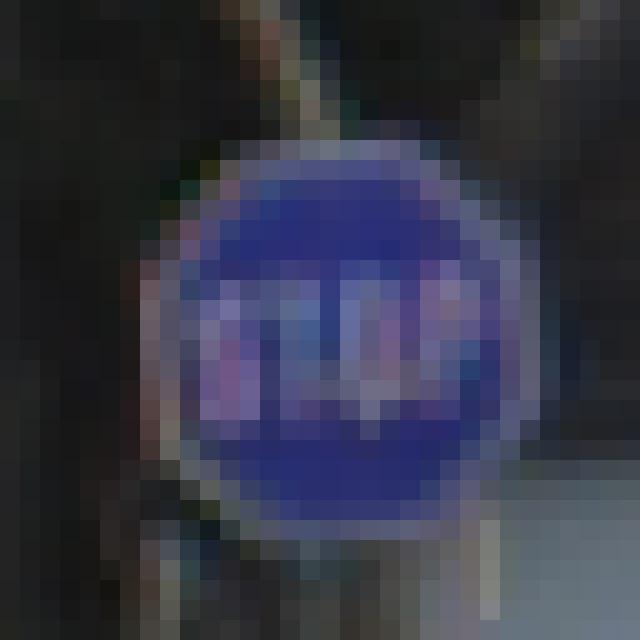STOP: (148, 154, 533, 541)
